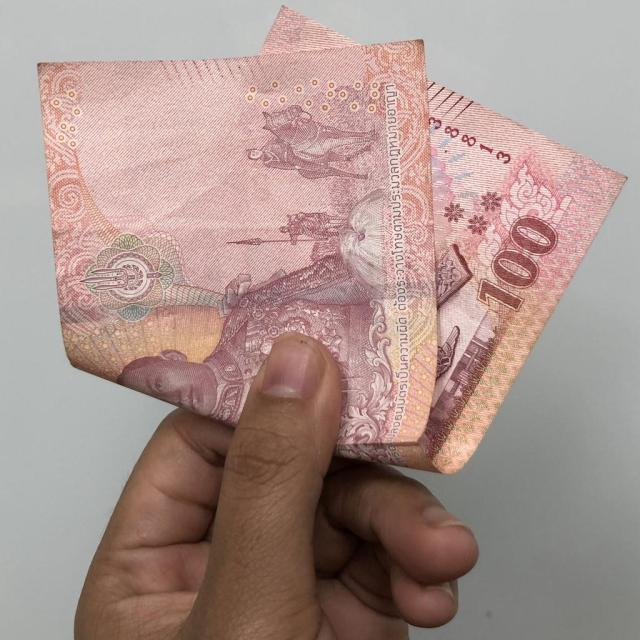THAI100: (36, 8, 628, 478)
